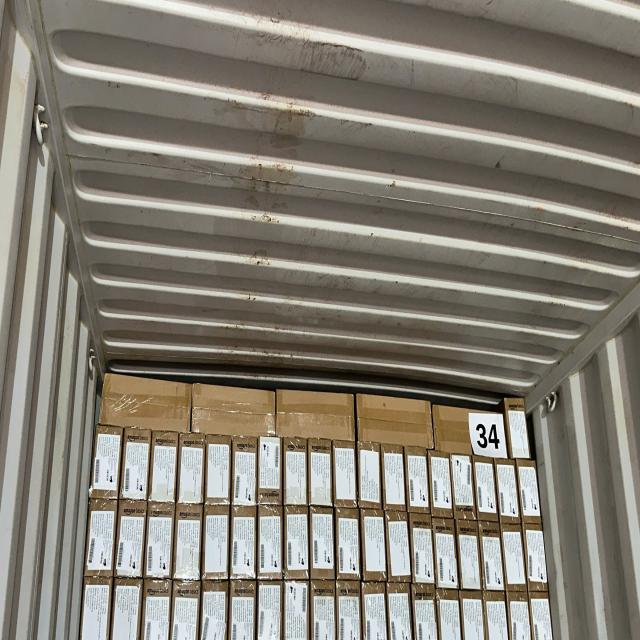Carton: (97, 373, 191, 431), (355, 391, 433, 453), (193, 381, 275, 435), (276, 388, 356, 442), (432, 406, 506, 462), (84, 505, 113, 579), (174, 506, 202, 580), (360, 509, 388, 583), (258, 504, 284, 583), (91, 428, 121, 496), (230, 508, 258, 580), (81, 581, 115, 640), (385, 511, 412, 585), (146, 506, 174, 577), (119, 502, 145, 577), (451, 452, 479, 520), (428, 451, 456, 519), (285, 508, 311, 580), (336, 508, 362, 580), (410, 516, 436, 588), (381, 446, 409, 512), (151, 431, 177, 501), (432, 518, 458, 588), (478, 524, 504, 594), (284, 439, 310, 508), (122, 434, 150, 498), (204, 507, 228, 581), (358, 442, 384, 509), (259, 440, 285, 506), (311, 511, 335, 582), (407, 446, 432, 514), (309, 440, 334, 508), (233, 436, 257, 506), (114, 580, 142, 640), (504, 398, 530, 462), (500, 529, 526, 592), (207, 435, 231, 503), (458, 521, 482, 589), (143, 582, 171, 640), (517, 462, 543, 524), (523, 530, 549, 592), (496, 464, 522, 525), (474, 462, 500, 523), (334, 442, 358, 508), (180, 435, 204, 501), (172, 584, 200, 640), (410, 588, 440, 640), (387, 586, 415, 640), (336, 586, 364, 640), (362, 586, 389, 640), (258, 585, 284, 640), (231, 586, 257, 640), (201, 588, 228, 640), (310, 585, 335, 640), (285, 586, 310, 640), (528, 595, 555, 640), (459, 597, 487, 640), (436, 596, 462, 640), (507, 595, 532, 640), (485, 597, 509, 639)
